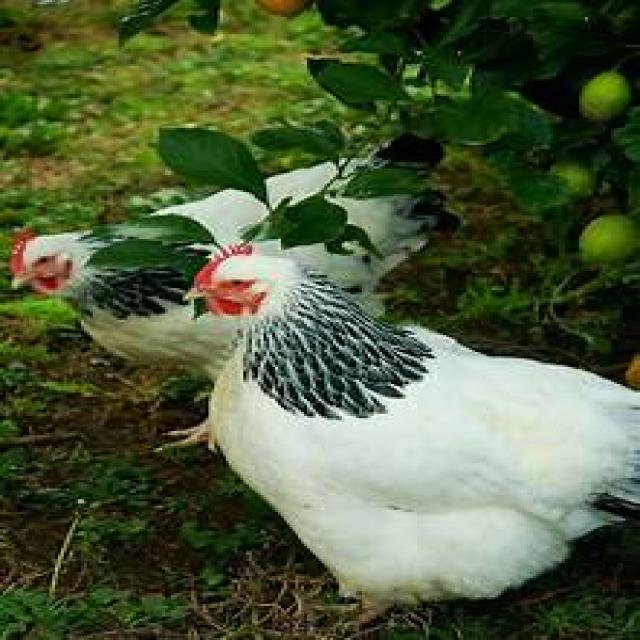animal: (197, 248, 640, 602), (13, 155, 426, 448)
